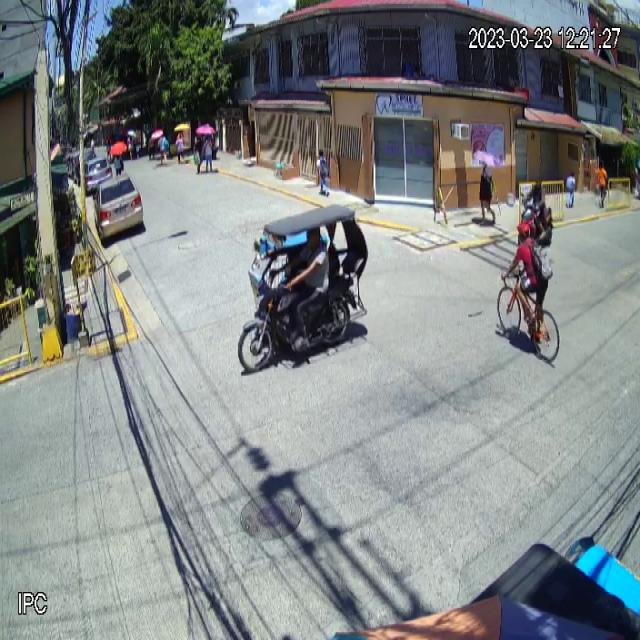Tricycle: (238, 204, 368, 374)
